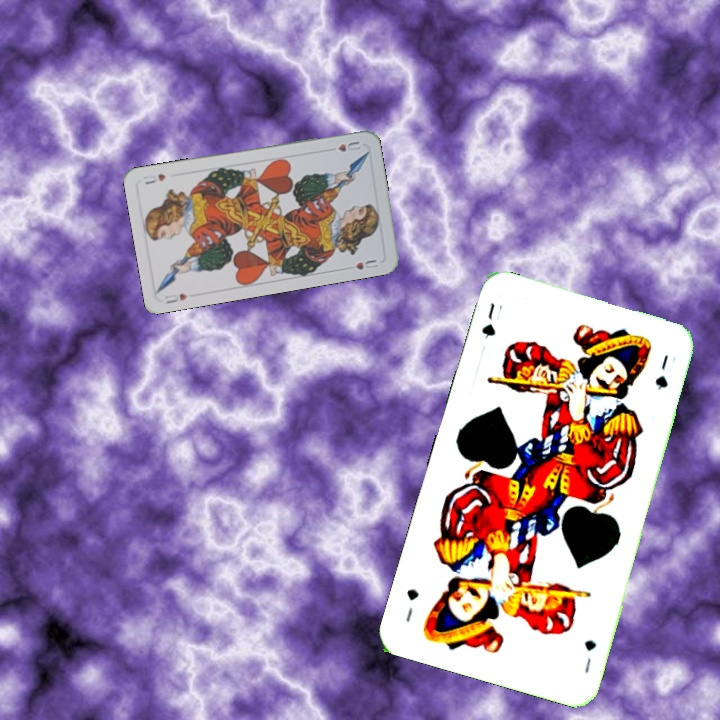GU: (477, 299, 506, 341), (580, 635, 599, 676)
HU: (334, 137, 364, 154), (161, 289, 190, 306)
